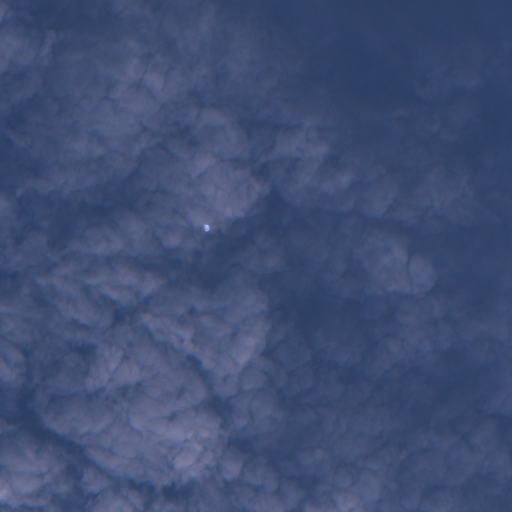Iceberg: (204, 225, 209, 230)
